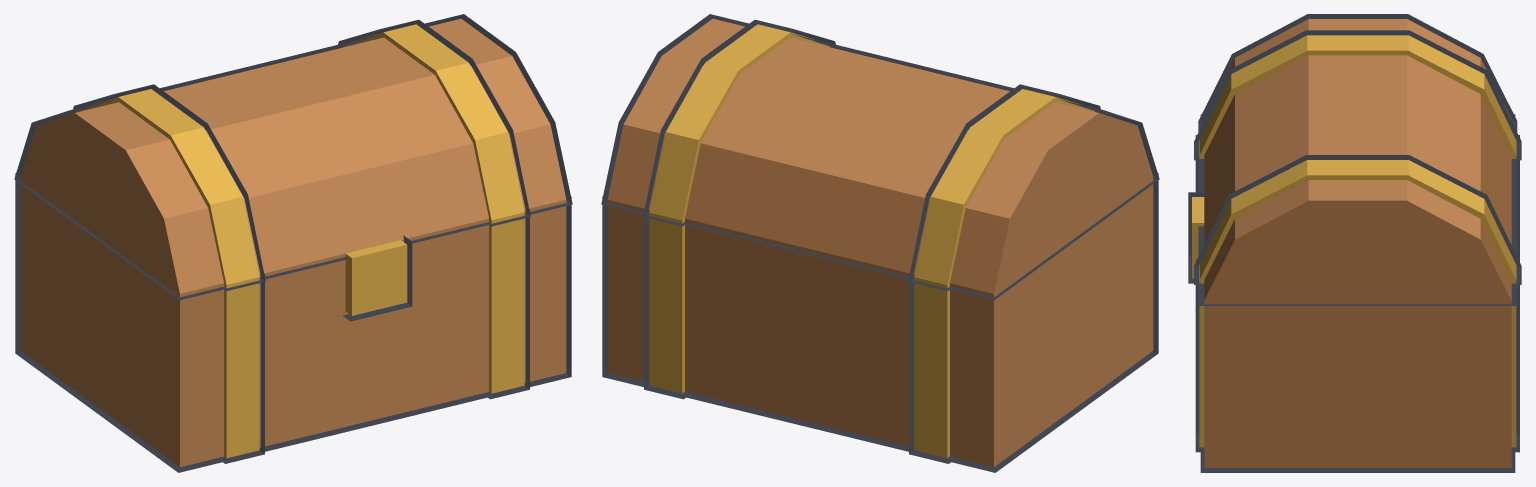
File: treasure_chest.glb
3 renders of one model, left to right at view 1: azimuth 30°, elevation 25°; view 2: azimuth 150°, elevation 25°; view 3: azimuth 270°, elevation 25°, orthographic. The views are drawn at different scales.
Parts seen in each view (by area): view 1: chest, lid, ink_outline (×2); view 2: chest, lid, ink_outline (×2); view 3: lid, chest, ink_outline (×2).
Part boxes in pixels (x1,y1,x2,y2): chest: (20, 178, 566, 467); lid: (20, 19, 566, 293); ink_outline (×2): (14, 14, 572, 472); chest: (607, 178, 1153, 467); lid: (607, 19, 1153, 293); ink_outline (×2): (601, 14, 1159, 472); lid: (1199, 19, 1515, 300); chest: (1192, 140, 1516, 467); ink_outline (×2): (1188, 14, 1521, 472).
Size of the model in its own units: 0.0712 by 0.05 by 0.0543.
